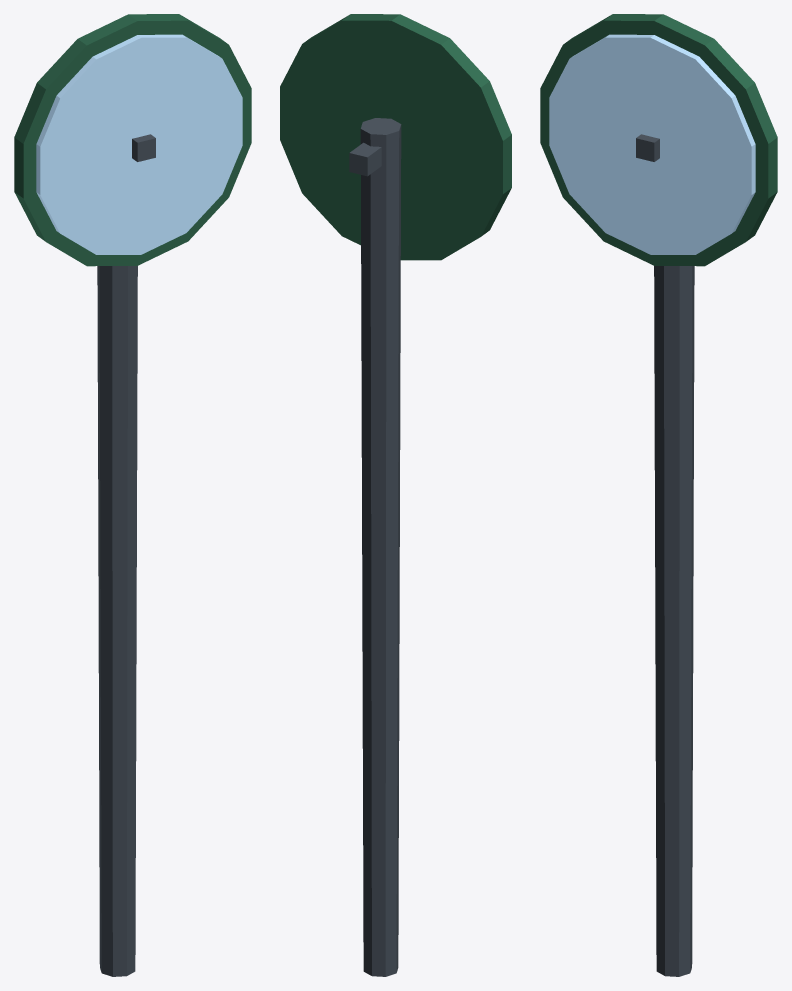
The model's file is prop_mirror.glb.
The picture shows the model from 3 angles, left to right: view 1: azimuth 30°, elevation 25°; view 2: azimuth 150°, elevation 25°; view 3: azimuth 330°, elevation 25°; orthographic projection. The views are drawn at different scales.
Parts seen in each view (by area): view 1: mirror_glass.001, post.272, mirror_rim.001, mirror_arm.001; view 2: mirror_rim.001, post.272, mirror_arm.001; view 3: mirror_glass.001, post.272, mirror_rim.001, mirror_arm.001.
Part boxes in pixels (x1=…): mirror_glass.001: x1=36, y1=34, x2=242, y2=254; post.272: x1=97, y1=266, x2=137, y2=976; mirror_rim.001: x1=14, y1=14, x2=251, y2=266; mirror_arm.001: x1=132, y1=134, x2=155, y2=161; mirror_rim.001: x1=280, y1=14, x2=511, y2=260; post.272: x1=360, y1=118, x2=401, y2=976; mirror_arm.001: x1=349, y1=142, x2=381, y2=176; mirror_glass.001: x1=549, y1=34, x2=755, y2=254; post.272: x1=654, y1=266, x2=694, y2=976; mirror_rim.001: x1=540, y1=14, x2=777, y2=266; mirror_arm.001: x1=636, y1=134, x2=659, y2=161.
Bounding box in the file's own units: 0.8579 × 3.46 × 0.34.
